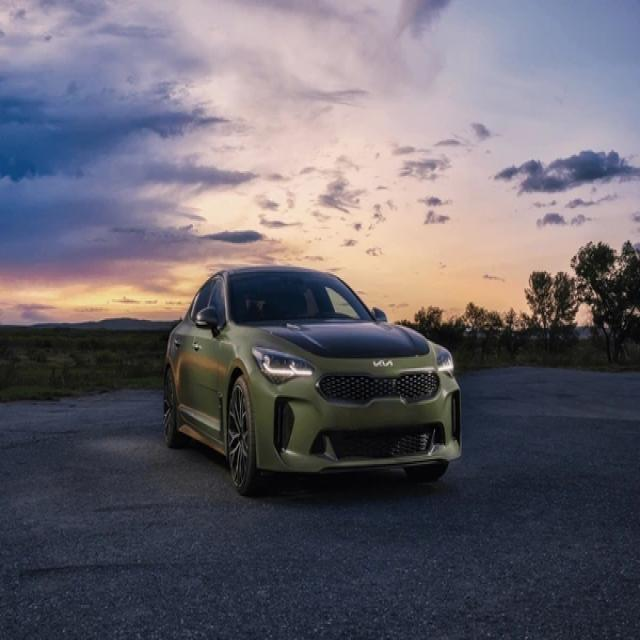kia: (373, 357, 393, 370)
